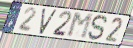2: (52, 10, 73, 38), (16, 7, 37, 34), (104, 17, 123, 44)
M: (66, 12, 95, 40)
S: (87, 14, 109, 42)
V: (38, 9, 58, 36)
